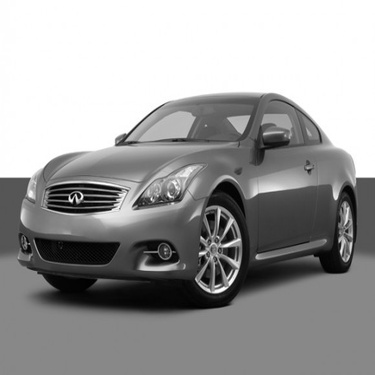car: (12, 88, 365, 310)
